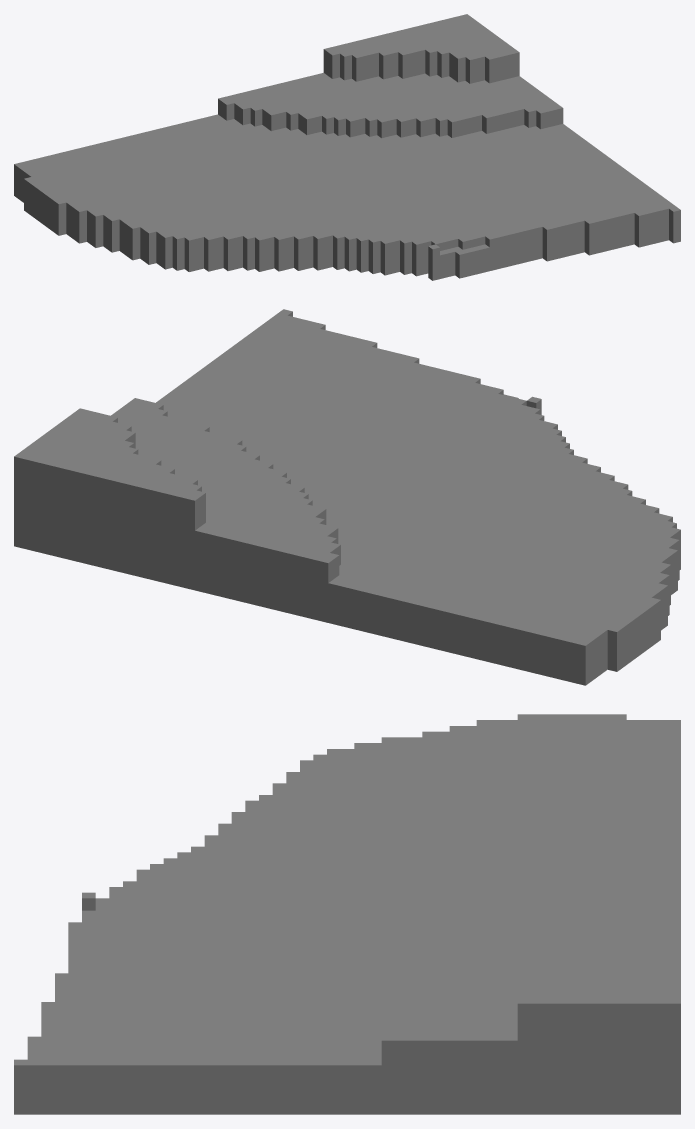
File: Main Island-29.obj
The picture shows the model from 3 angles, top to bottom: view 1: azimuth 30°, elevation 25°; view 2: azimuth 150°, elevation 25°; view 3: azimuth 270°, elevation 25°; orthographic projection. The views are drawn at different scales.
Parts seen in each view (by area): view 1: Main Island-11; view 2: Main Island-11; view 3: Main Island-11.
Boxes of the visible parts, box(x1,y1,x2,y2) form: Main Island-11: box(14, 14, 680, 280); Main Island-11: box(14, 309, 680, 685); Main Island-11: box(14, 714, 680, 1114).
Size of the model in its own units: 61 by 9 by 49.
Materials: 1 (1 with a texture image).
